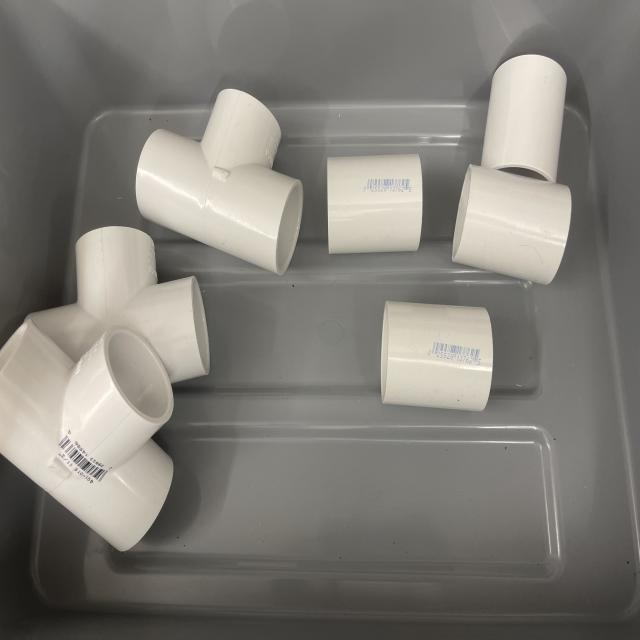T Joint: (0, 320, 174, 553), (135, 89, 304, 277), (30, 226, 209, 384)
